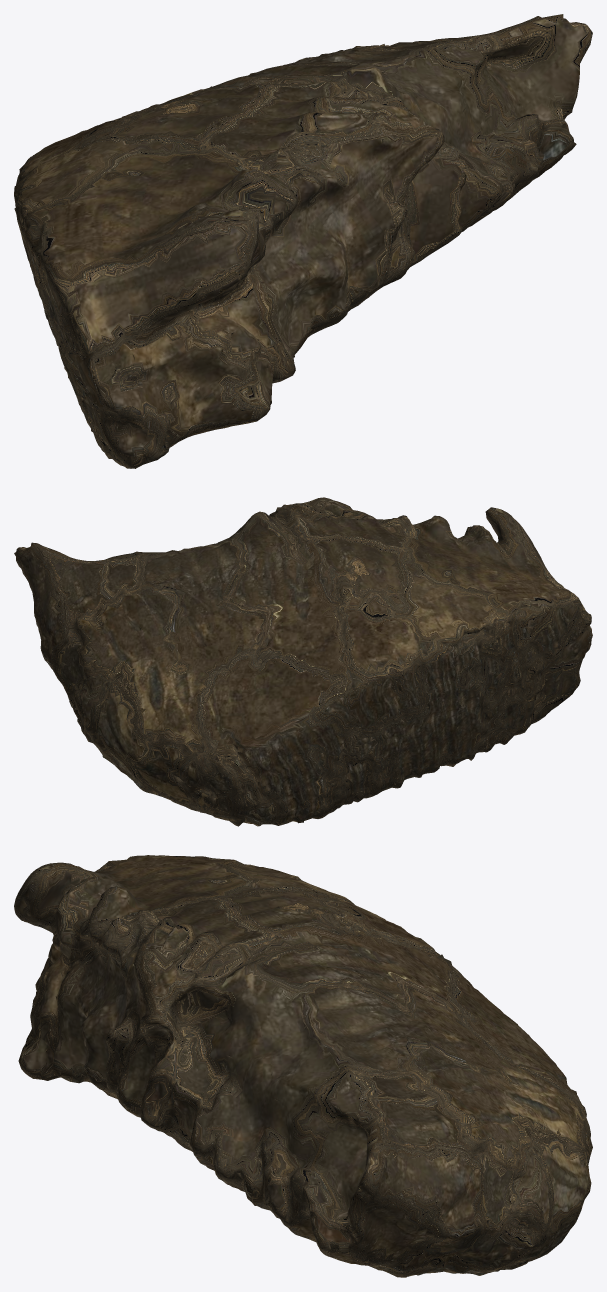
File: nmnhpaleo_mammuthus-primigenius-blumbach.glb
The picture shows the model from 3 angles, top to bottom: view 1: azimuth 30°, elevation 25°; view 2: azimuth 150°, elevation 25°; view 3: azimuth 270°, elevation 25°; orthographic projection. The views are drawn at different scales.
Parts seen in each view (by area): view 1: Spinlab_Piece; view 2: Spinlab_Piece; view 3: Spinlab_Piece.
Boxes of the visible parts, x1,y1,x2,y2 form: Spinlab_Piece: (14, 14, 592, 468); Spinlab_Piece: (14, 497, 592, 826); Spinlab_Piece: (14, 855, 592, 1277).
Size of the model in its own units: 3.45 by 1.6 by 2.63.
Materials: 1 (1 with a texture image).
